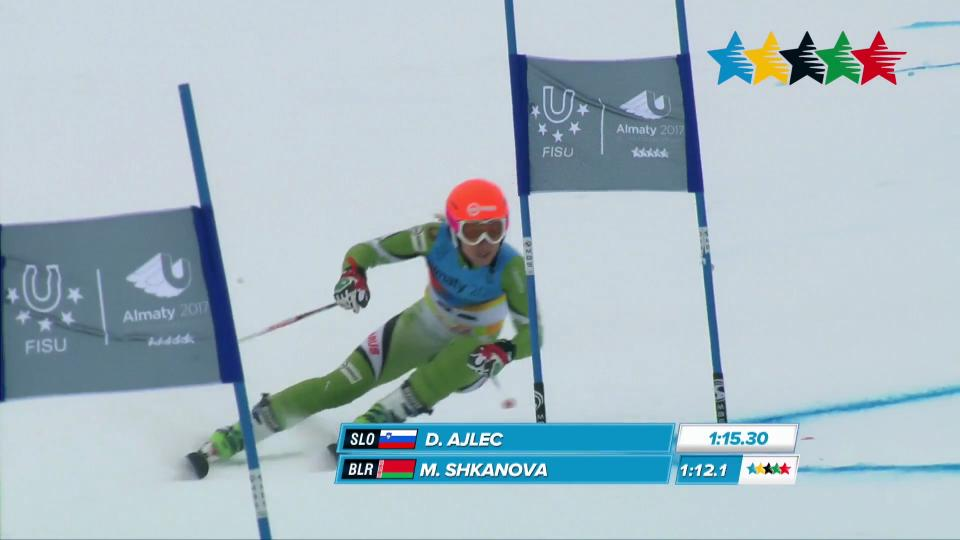gate: (163, 73, 282, 539), (650, 0, 742, 422), (492, 0, 563, 429)
